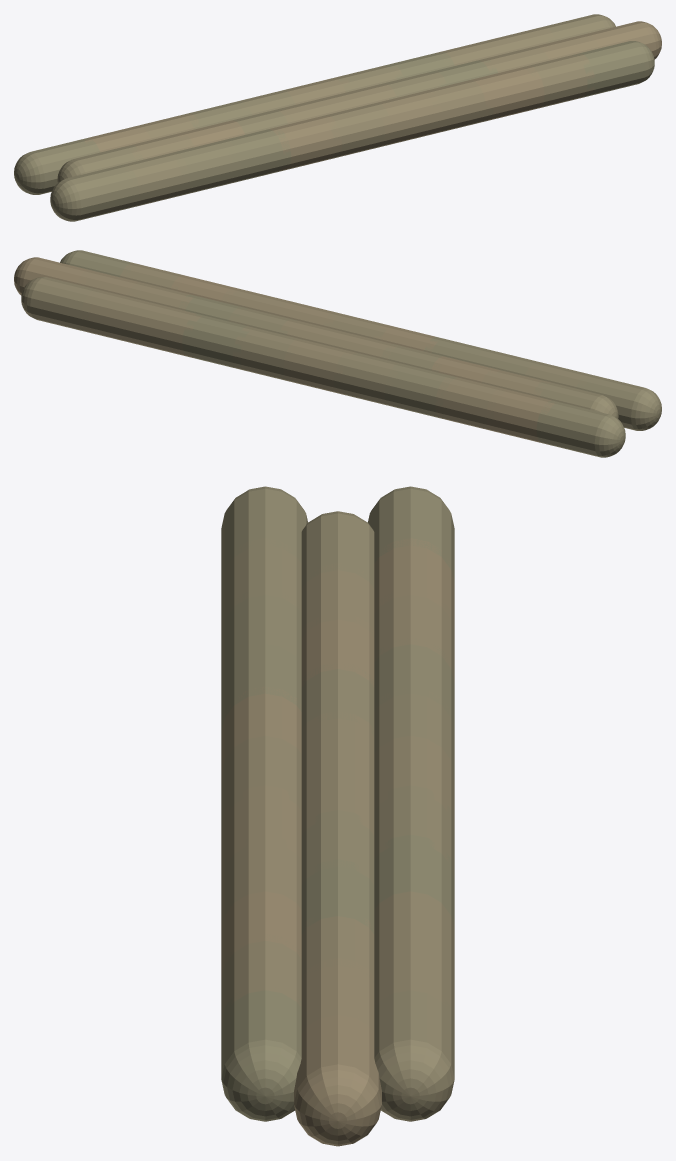
File: sandbag_emplacement.glb
3 renders of one model, top to bottom at view 1: azimuth 30°, elevation 25°; view 2: azimuth 150°, elevation 25°; view 3: azimuth 270°, elevation 25°, orthographic. The views are drawn at different scales.
Visible parts, largest first — view 1: Bag2_0, Bag2_10, Bag2_8, Bag2_1, Bag2_4, Bag2_2, Bag0_0, Bag2_3, Bag2_5, Bag2_6, Bag2_9, Bag2_7 (+21 smaller); view 2: Bag0_0, Bag0_10, Bag0_9, Bag0_3, Bag0_5, Bag0_2, Bag2_0, Bag0_7, Bag0_4, Bag0_1, Bag0_8, Bag0_6 (+21 smaller); view 3: Bag1_10, Bag0_10, Bag2_10, Bag0_0, Bag2_0, Bag0_1, Bag0_7, Bag2_7, Bag2_1, Bag1_0, Bag0_5, Bag2_5 (+21 smaller).
Part boxes in pixels (x1=…): Bag2_0: x1=50, y1=164, x2=139, y2=221; Bag2_10: x1=573, y1=41, x2=654, y2=97; Bag2_8: x1=471, y1=65, x2=544, y2=120; Bag2_1: x1=120, y1=152, x2=189, y2=207; Bag2_4: x1=269, y1=115, x2=341, y2=171; Bag2_2: x1=172, y1=140, x2=240, y2=195; Bag0_0: x1=14, y1=138, x2=100, y2=194; Bag2_3: x1=218, y1=129, x2=291, y2=182; Bag2_5: x1=319, y1=102, x2=392, y2=159; Bag2_6: x1=378, y1=90, x2=442, y2=145; Bag2_9: x1=522, y1=53, x2=594, y2=108; Bag2_7: x1=428, y1=80, x2=493, y2=132; Bag0_0: x1=536, y1=400, x2=625, y2=457; Bag0_10: x1=21, y1=277, x2=99, y2=333; Bag0_9: x1=81, y1=289, x2=153, y2=345; Bag0_3: x1=384, y1=364, x2=457, y2=418; Bag0_5: x1=283, y1=339, x2=356, y2=395; Bag0_2: x1=435, y1=376, x2=505, y2=430; Bag2_0: x1=575, y1=374, x2=661, y2=430; Bag0_7: x1=182, y1=314, x2=248, y2=368; Bag0_4: x1=334, y1=353, x2=406, y2=407; Bag0_1: x1=486, y1=388, x2=555, y2=444; Bag0_8: x1=132, y1=301, x2=201, y2=357; Bag0_6: x1=232, y1=326, x2=305, y2=382; Bag1_10: x1=294, y1=1015, x2=381, y2=1146; Bag0_10: x1=374, y1=990, x2=454, y2=1121; Bag2_10: x1=221, y1=990, x2=301, y2=1121; Bag0_0: x1=368, y1=486, x2=454, y2=582; Bag2_0: x1=221, y1=486, x2=307, y2=583; Bag0_1: x1=374, y1=538, x2=454, y2=633; Bag0_7: x1=374, y1=834, x2=454, y2=926; Bag2_7: x1=221, y1=834, x2=301, y2=926; Bag2_1: x1=221, y1=538, x2=301, y2=633; Bag1_0: x1=301, y1=511, x2=374, y2=588; Bag0_5: x1=374, y1=736, x2=454, y2=831; Bag2_5: x1=221, y1=736, x2=301, y2=831.
Size of the model in its own units: 7.15 by 0.4376 by 1.16.
